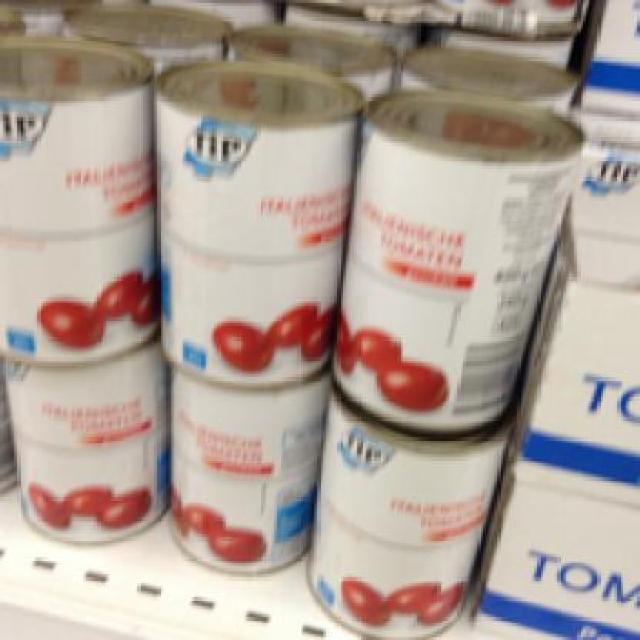Tomato Sauce: (328, 86, 584, 432), (148, 51, 364, 388), (300, 392, 514, 638), (0, 36, 155, 361), (0, 348, 169, 546), (163, 363, 323, 571)
